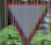Give way: (2, 0, 48, 43)
